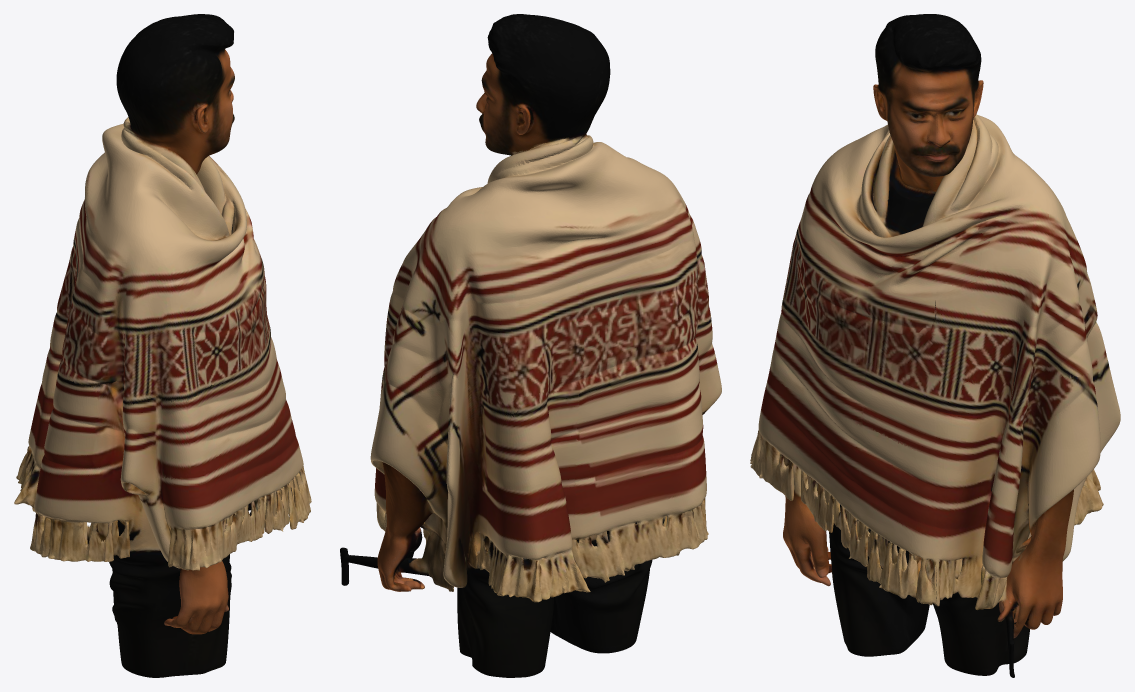
The model's file is solapuri chaddar.glb.
3 views of the same model, side by side, from view 1: azimuth 30°, elevation 25°; view 2: azimuth 150°, elevation 25°; view 3: azimuth 270°, elevation 25° (orthographic). The views are drawn at different scales.
Visible parts, largest first — view 1: tripo_node_21b6d072-ebb8-4df3-aaec-a0e39733ef47; view 2: tripo_node_21b6d072-ebb8-4df3-aaec-a0e39733ef47; view 3: tripo_node_21b6d072-ebb8-4df3-aaec-a0e39733ef47.
Boxes of the visible parts, left/top/right/bottom form: tripo_node_21b6d072-ebb8-4df3-aaec-a0e39733ef47: left=14, top=14, right=311, bottom=677; tripo_node_21b6d072-ebb8-4df3-aaec-a0e39733ef47: left=340, top=14, right=721, bottom=677; tripo_node_21b6d072-ebb8-4df3-aaec-a0e39733ef47: left=750, top=14, right=1120, bottom=677.
Bounding box in the file's own units: 0.5323 × 1 × 0.5344.
Materials: 1 (1 with a texture image).
